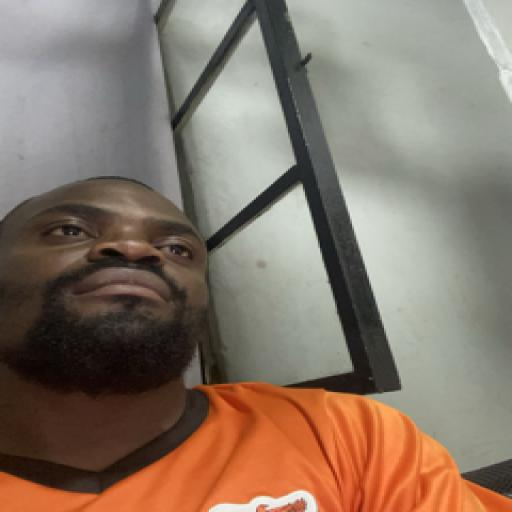JEANLUC: (9, 170, 234, 399)
